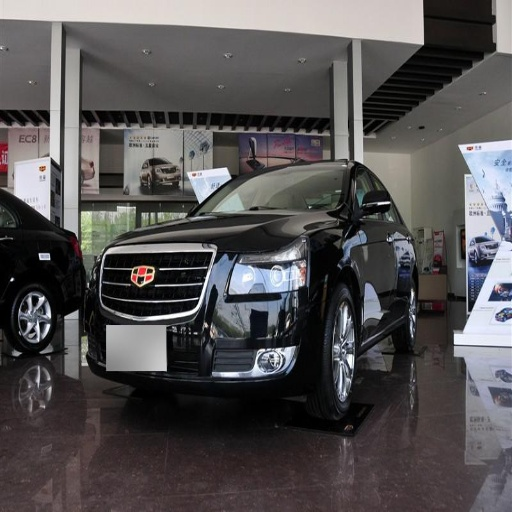front_bumper: (90, 242, 324, 380)
front_glass: (200, 171, 334, 212)
front_left_door: (352, 177, 390, 336)
